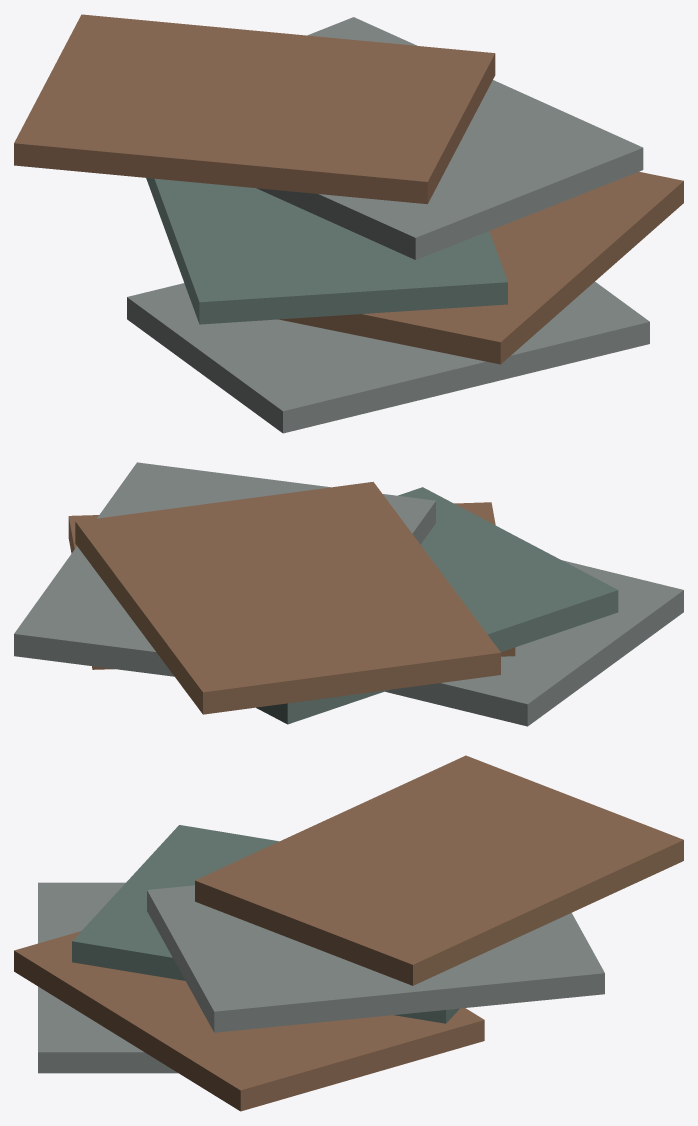
Rendered from v2_scrap_plates.glb.
The picture shows the model from 3 angles, top to bottom: view 1: azimuth 30°, elevation 25°; view 2: azimuth 150°, elevation 25°; view 3: azimuth 270°, elevation 25°; orthographic projection. The views are drawn at different scales.
Parts seen in each view (by area): view 1: Cube.006; view 2: Cube.006; view 3: Cube.006.
Part boxes in pixels (x1,y1,x2,y2): Cube.006: [14, 14, 683, 433]; Cube.006: [14, 462, 683, 726]; Cube.006: [14, 755, 683, 1111].
Bounding box in the file's own units: 1.11 × 0.2611 × 1.24.
